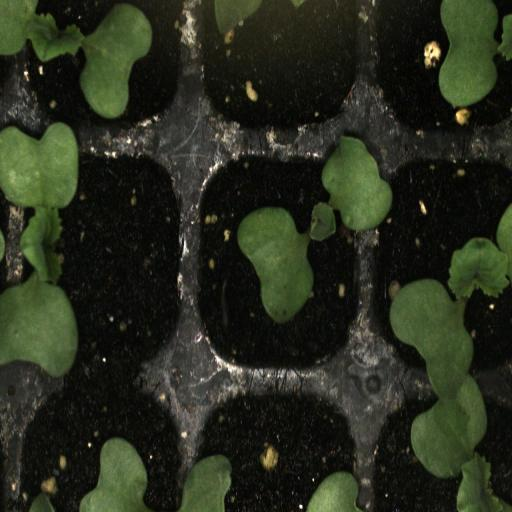Folha: (438, 0, 512, 107), (79, 437, 150, 512), (178, 455, 232, 512), (306, 471, 362, 512)
Germinacao: (8, 140, 189, 367), (188, 138, 365, 369), (369, 136, 512, 366), (7, 0, 191, 142), (369, 368, 512, 512)
